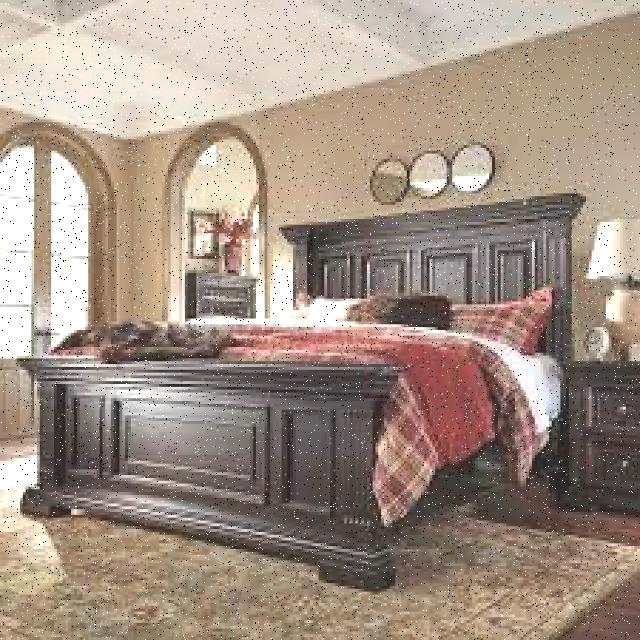bed: (36, 258, 575, 508)
